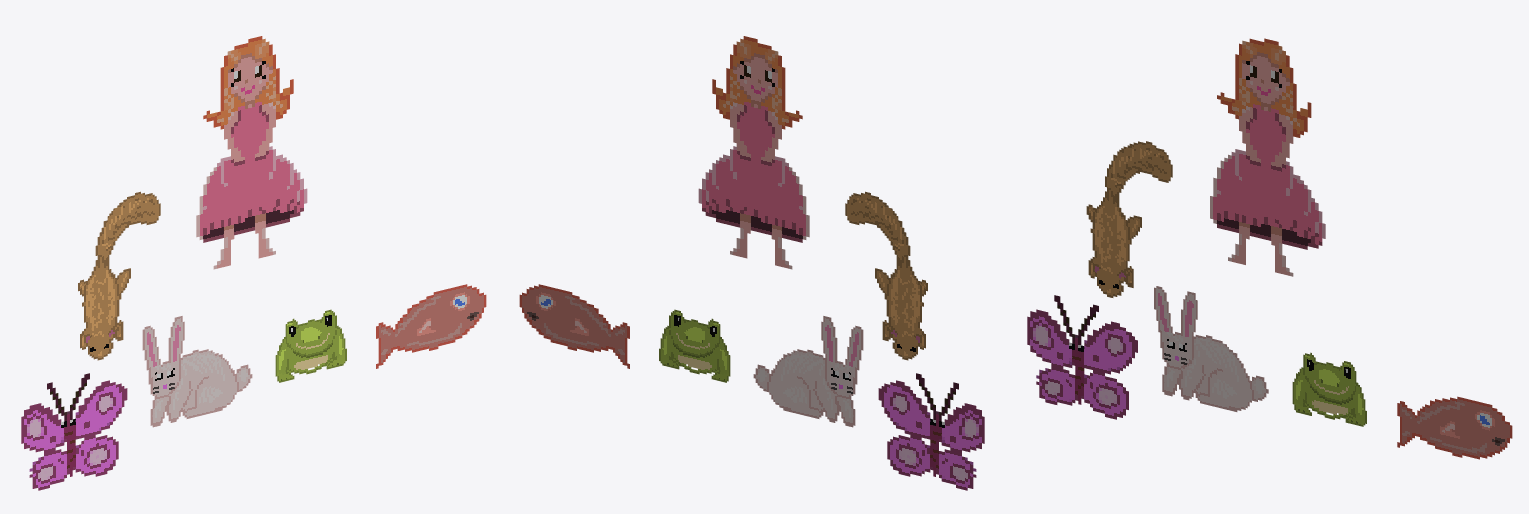
Rendered from Sunny and Na Objects.glb.
The picture shows the model from 3 angles, left to right: view 1: azimuth 30°, elevation 25°; view 2: azimuth 150°, elevation 25°; view 3: azimuth 330°, elevation 25°; orthographic projection. The views are drawn at different scales.
Visible parts, largest first — view 1: Plane.058, Plane.053, Plane.054, Plane.057, Plane.056, Plane.055; view 2: Plane.058, Plane.053, Plane.054, Plane.057, Plane.056, Plane.055; view 3: Plane.058, Plane.053, Plane.054, Plane.057, Plane.056, Plane.055.
Part boxes in pixels (bbox=[...]): Plane.058: bbox=[196, 36, 307, 269]; Plane.053: bbox=[21, 373, 127, 490]; Plane.054: bbox=[142, 316, 252, 427]; Plane.057: bbox=[78, 191, 160, 360]; Plane.056: bbox=[376, 284, 486, 368]; Plane.055: bbox=[275, 309, 346, 382]; Plane.058: bbox=[698, 36, 809, 269]; Plane.053: bbox=[878, 373, 984, 490]; Plane.054: bbox=[753, 316, 863, 427]; Plane.057: bbox=[845, 191, 927, 360]; Plane.056: bbox=[519, 284, 629, 368]; Plane.055: bbox=[659, 309, 730, 382]; Plane.058: bbox=[1210, 38, 1325, 276]; Plane.053: bbox=[1027, 295, 1137, 419]; Plane.054: bbox=[1154, 286, 1268, 411]; Plane.057: bbox=[1086, 141, 1172, 297]; Plane.056: bbox=[1397, 396, 1512, 459]; Plane.055: bbox=[1292, 352, 1366, 426].
Bounding box in the file's own units: 2.4 × 2 × 4.91e-08.
Materials: 1 (1 with a texture image).
